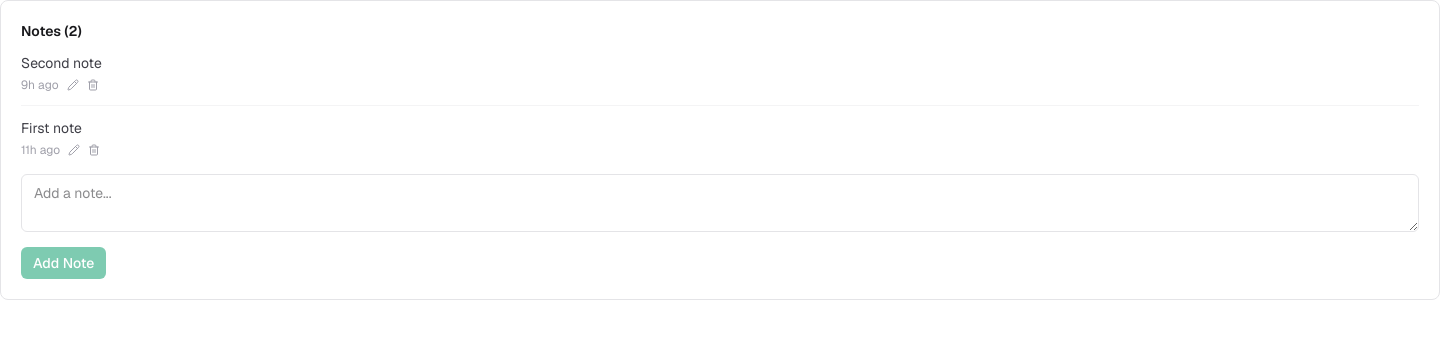
Test case: NoteList › displays fallback error when rejection is not an Error
Type "Another note" into the text box with placeholder "Add a note..." at (720, 203), box [21,174,1419,232]
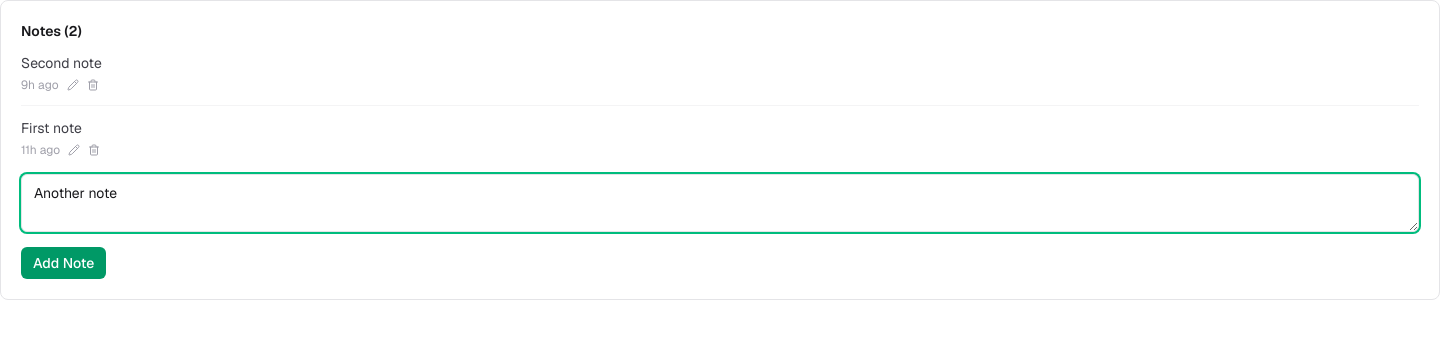
Click the button "Add Note" at (64, 263), box [21,247,106,279]
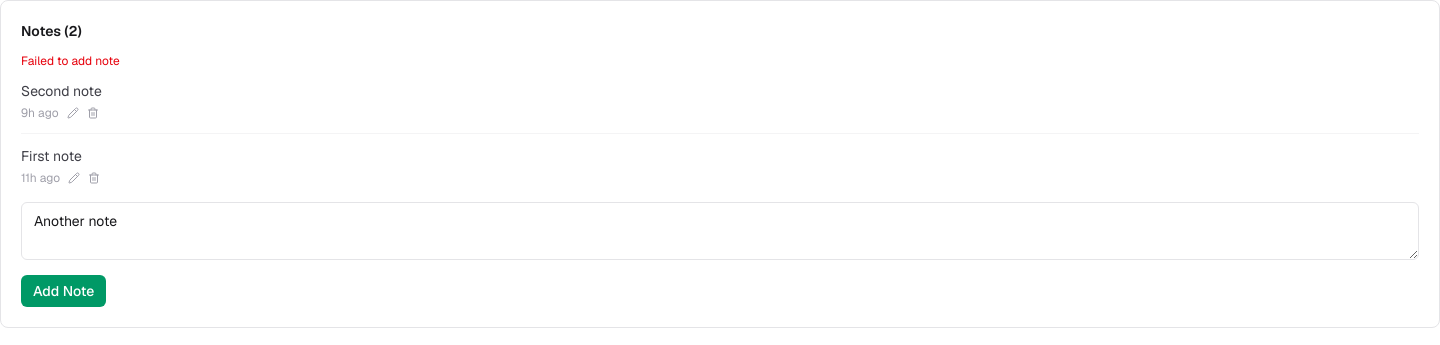
Expected: the text "Failed to add note" is shown, [21,53,120,69]
